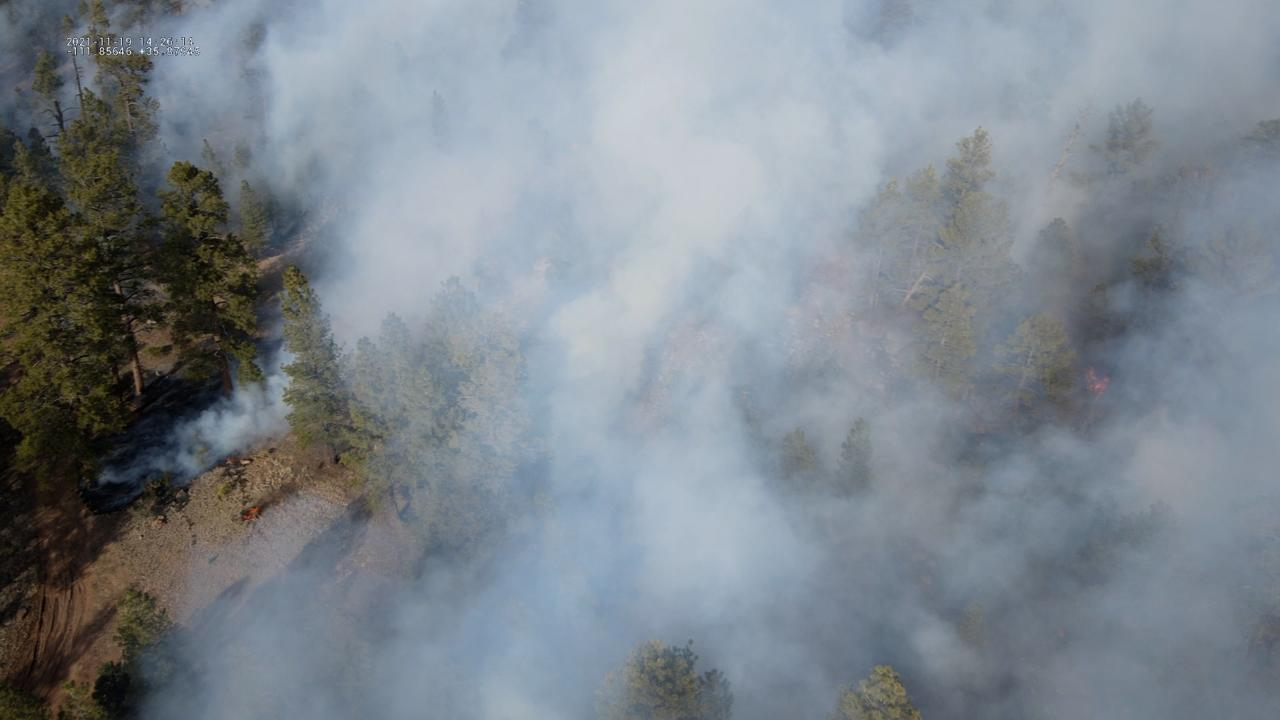fire: (1083, 364, 1111, 396), (240, 505, 257, 523)
smoke: (0, 0, 1280, 720)
